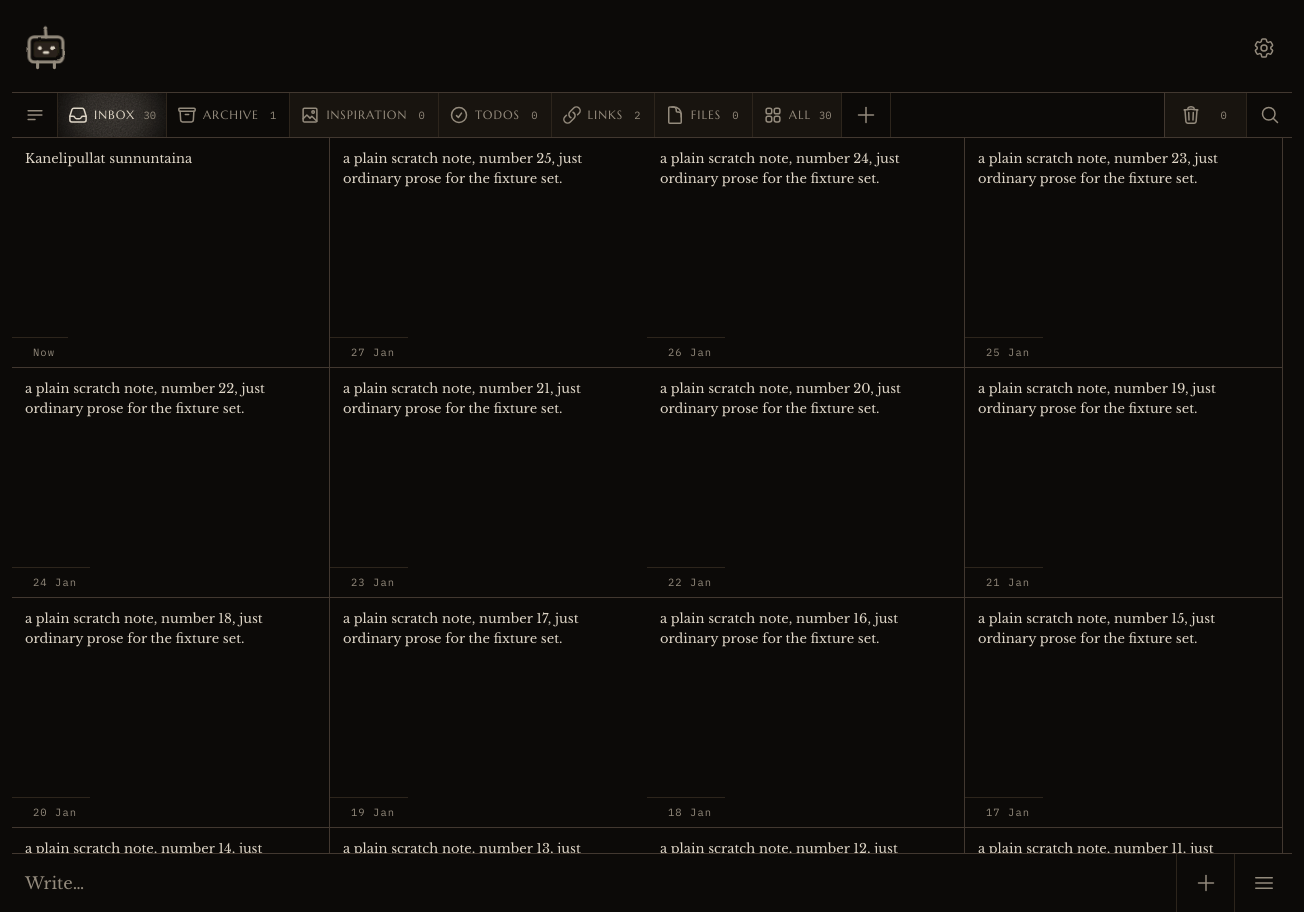
App › closes the bottom menus when tapped outside
Expected: the button "Kanelipullat sunnuntaina Now" is shown, left=12, top=138, right=330, bottom=368
Click the button named "Menu". click: (1263, 883)
box: left=1234, top=854, right=1292, bottom=911
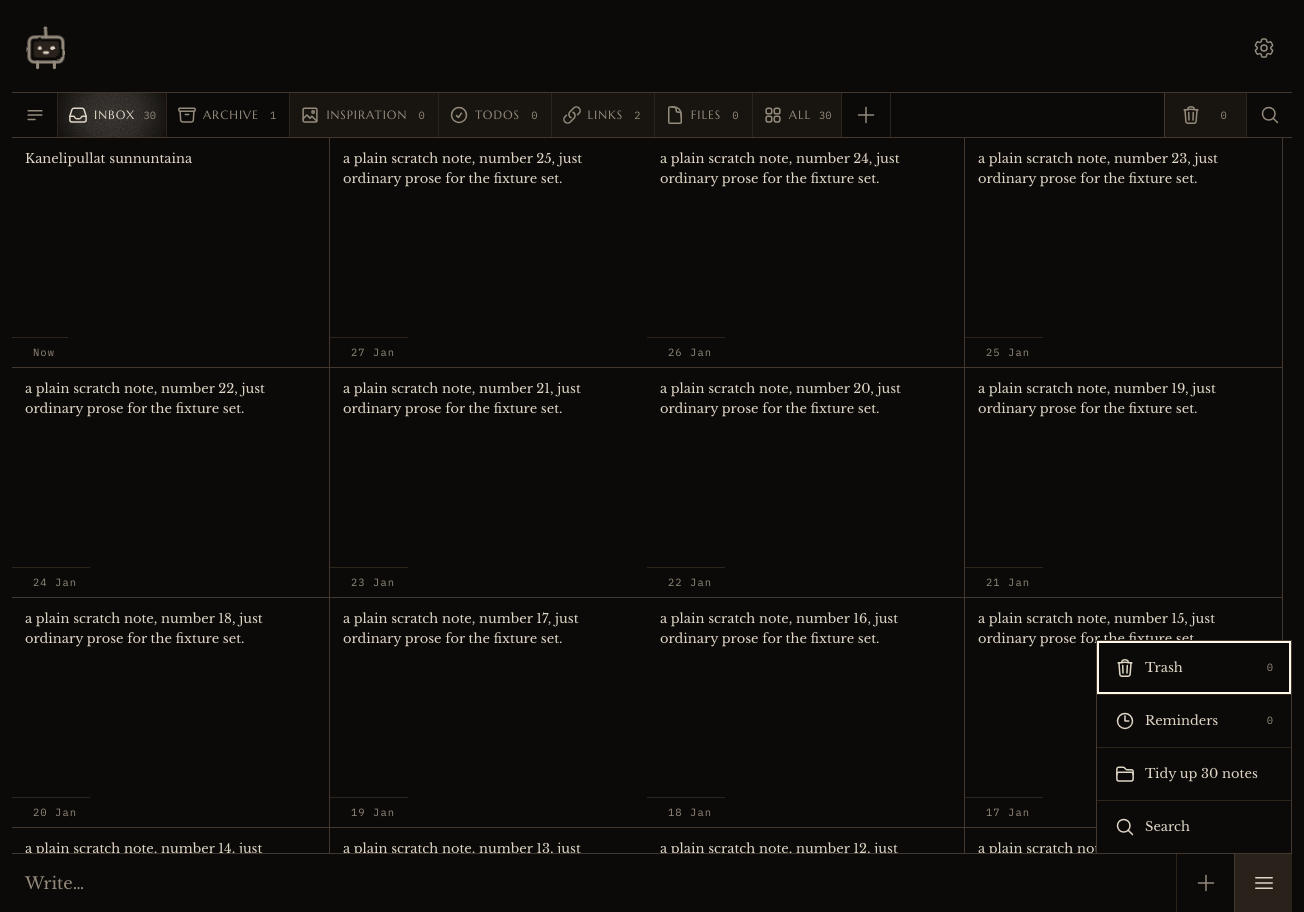
Now the menu named "Menu" is shown, box left=1096, top=640, right=1292, bottom=854
Click the button named "Close menu". click: (652, 462)
box: left=12, top=12, right=1292, bottom=911
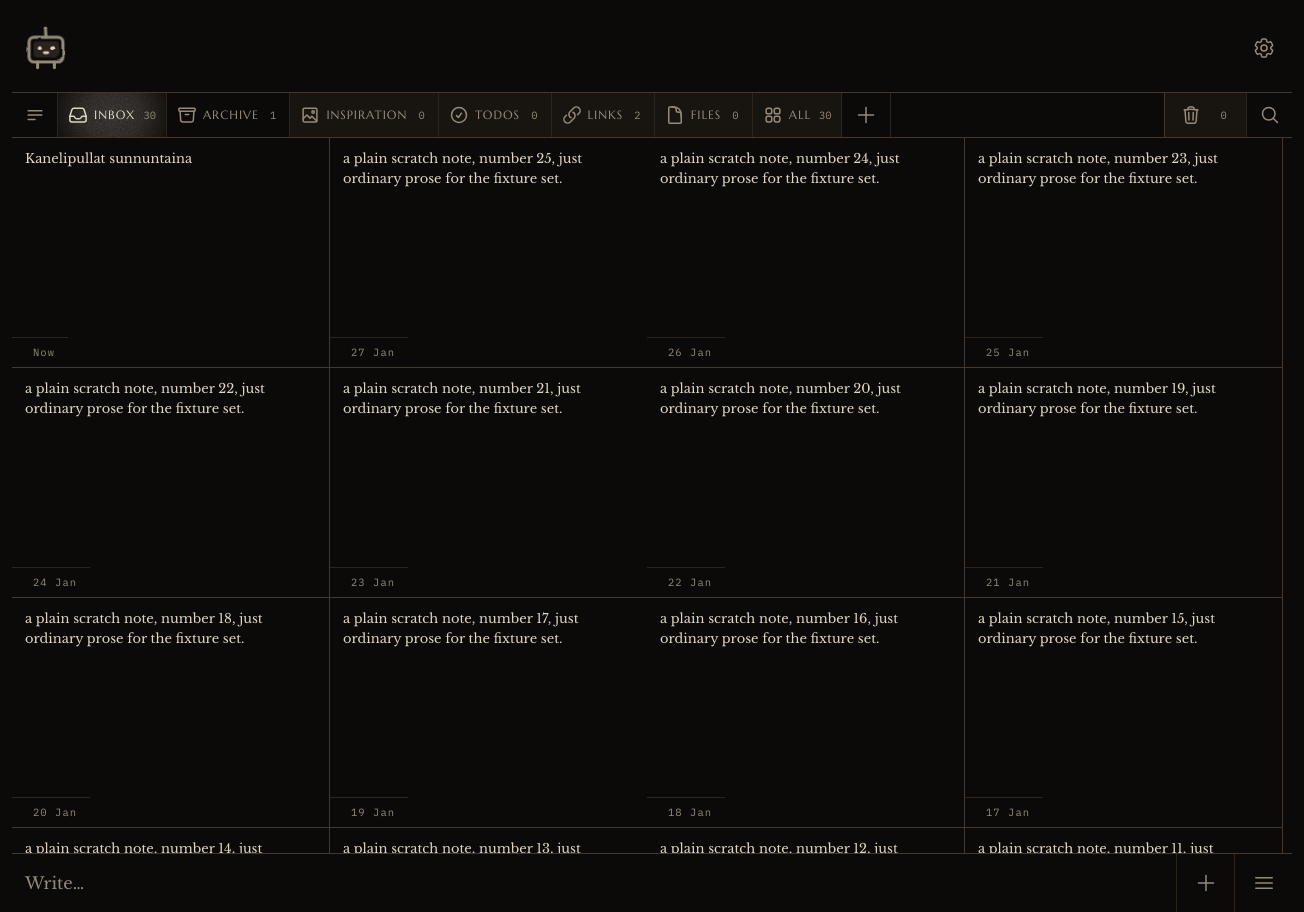
Now the menu "Trash 0 Reminders 0 Tidy up 30 notes Search" is gone
Click the button named "Add". click: (1205, 883)
box: left=1176, top=854, right=1234, bottom=911
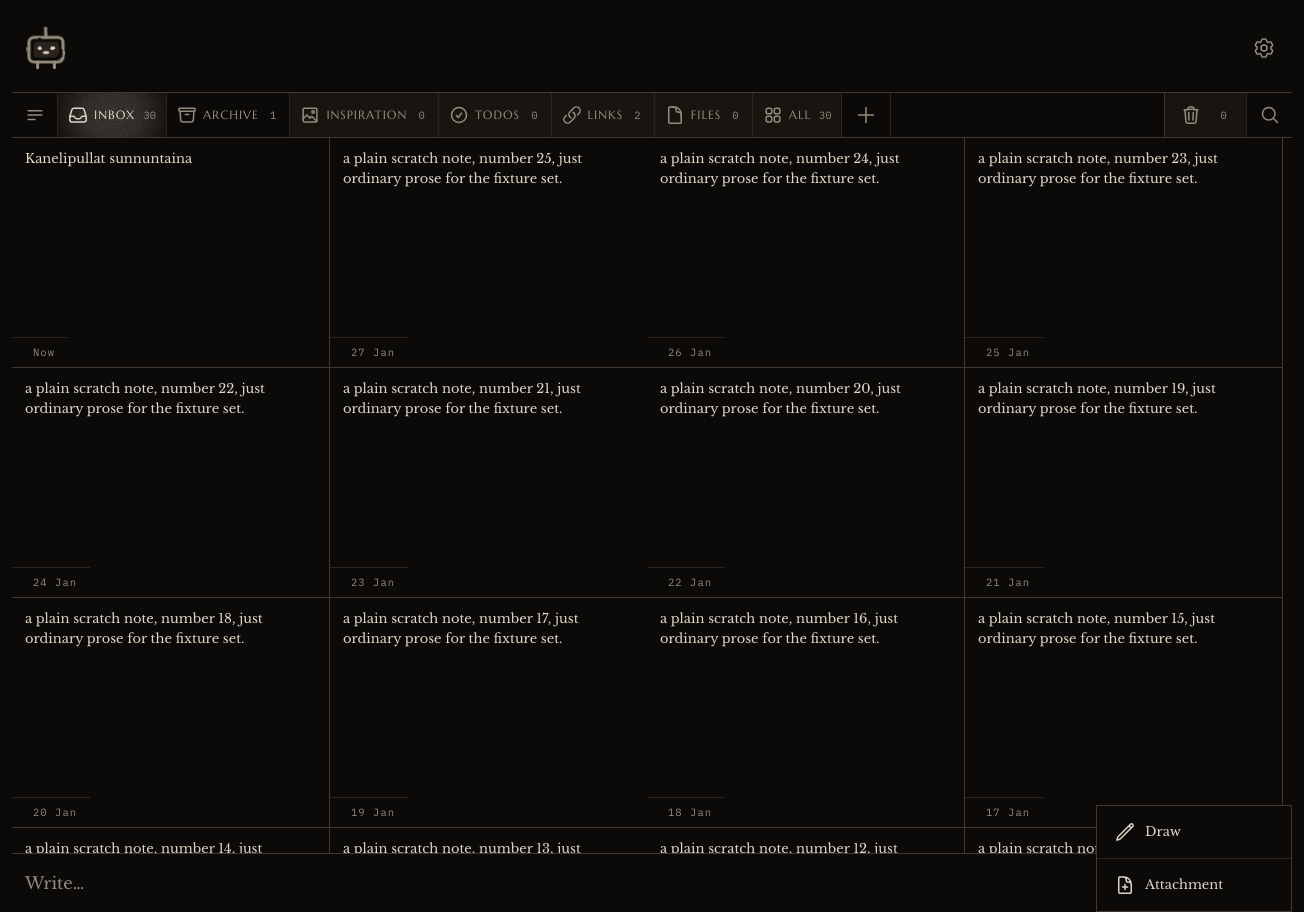
Now the menu named "Add" is shown, box left=1096, top=805, right=1292, bottom=911
Now the menu item "Attachment" is shown, box left=1097, top=858, right=1291, bottom=911
Click the button named "Close add menu". click: (652, 462)
box: left=12, top=12, right=1292, bottom=911
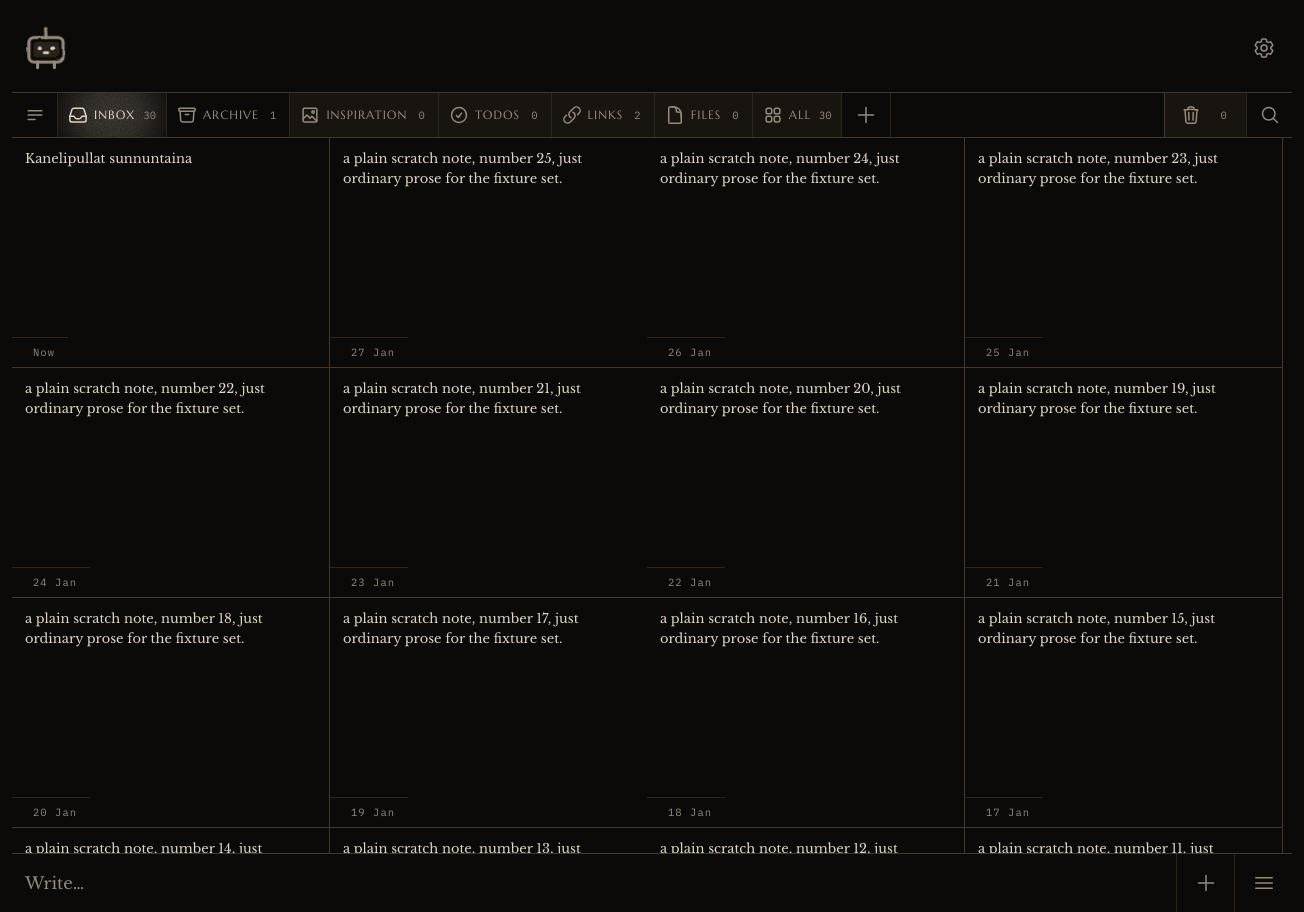
Now the menu "Draw Attachment" is gone
